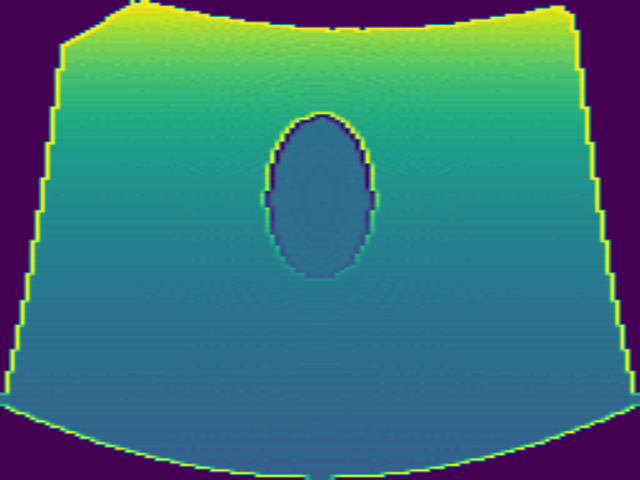sphere: (261, 111, 376, 280)
